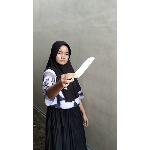Pisau: (64, 56, 98, 87)
